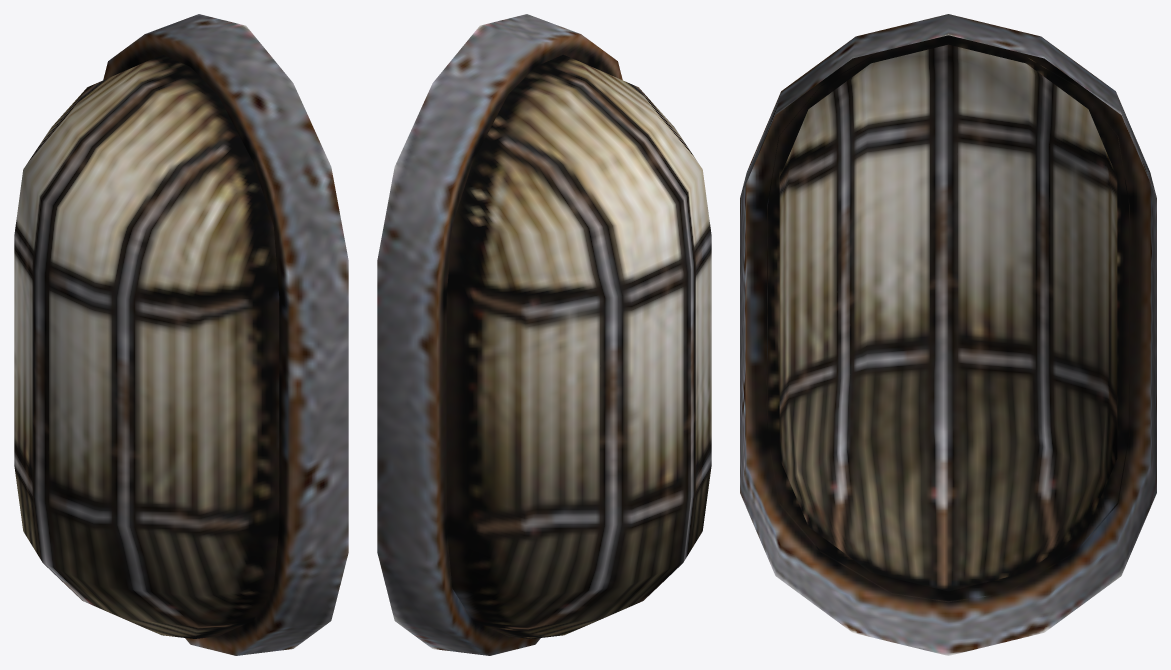
File: WallLight.fbx
3 views of the same model, side by side, from view 1: azimuth 30°, elevation 25°; view 2: azimuth 150°, elevation 25°; view 3: azimuth 270°, elevation 25° (orthographic).
Parts seen in each view (by area): view 1: WallLight; view 2: WallLight; view 3: WallLight.
Boxes of the visible parts, bbox=[...] form: WallLight: bbox=[14, 14, 348, 655]; WallLight: bbox=[377, 14, 711, 655]; WallLight: bbox=[740, 14, 1156, 655].
Bounding box in the file's own units: 16.65 × 46.17 × 28.11.
